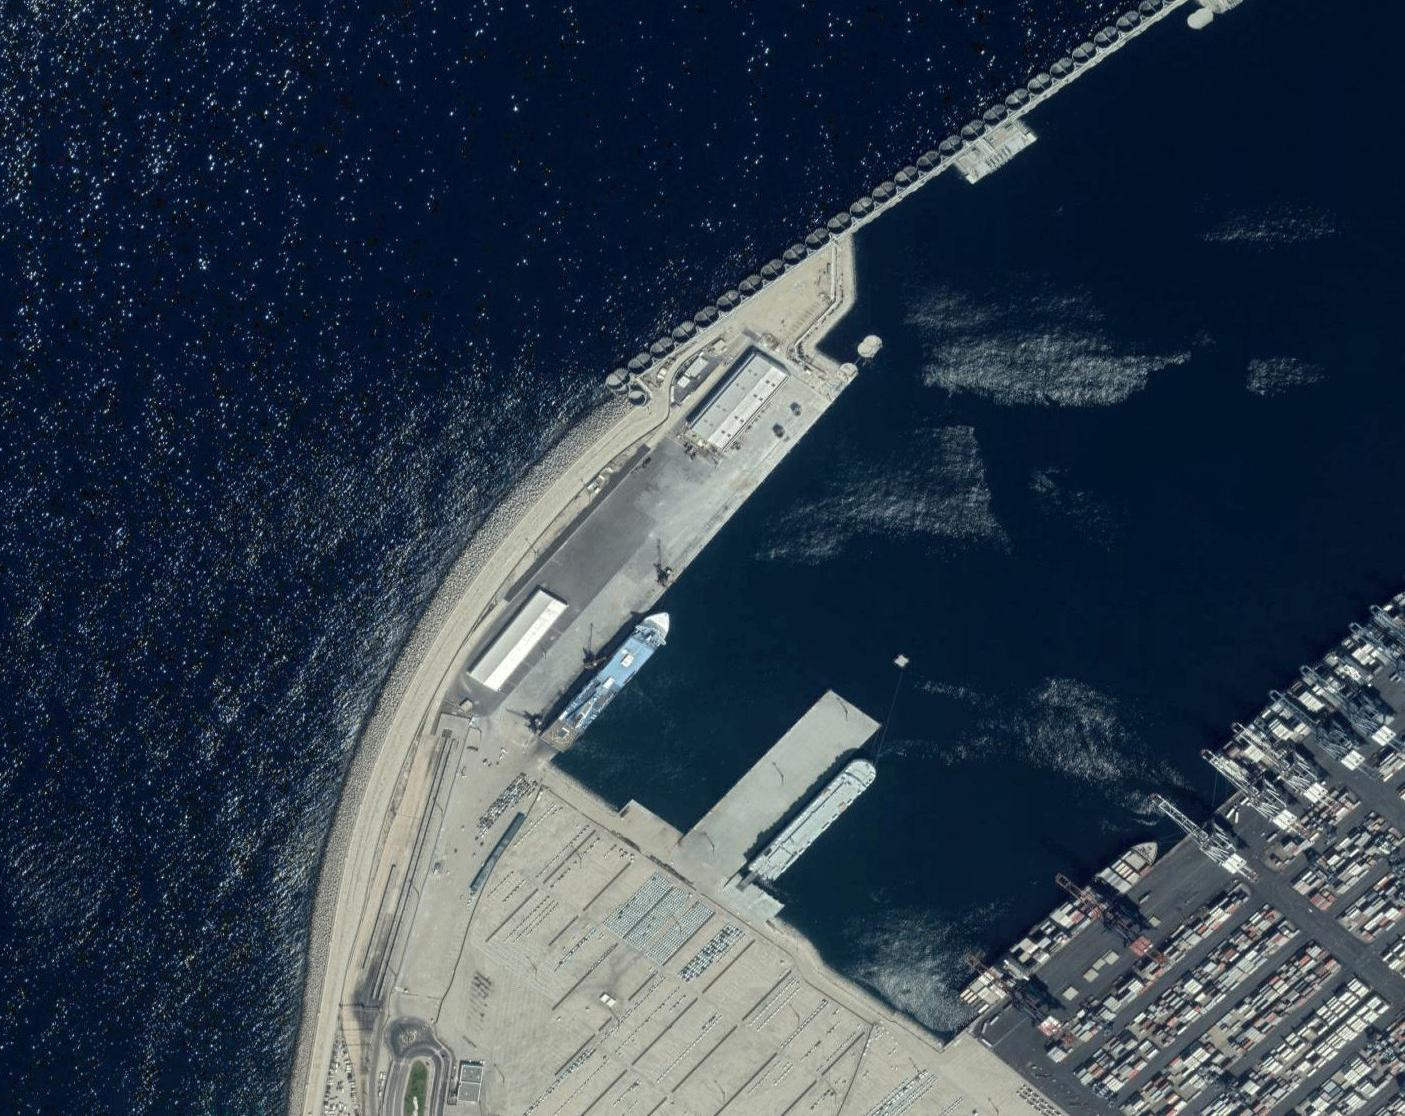harbor: (335, 174, 1405, 1068)
